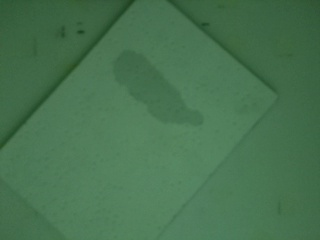Water_detected: (129, 57, 189, 117)
